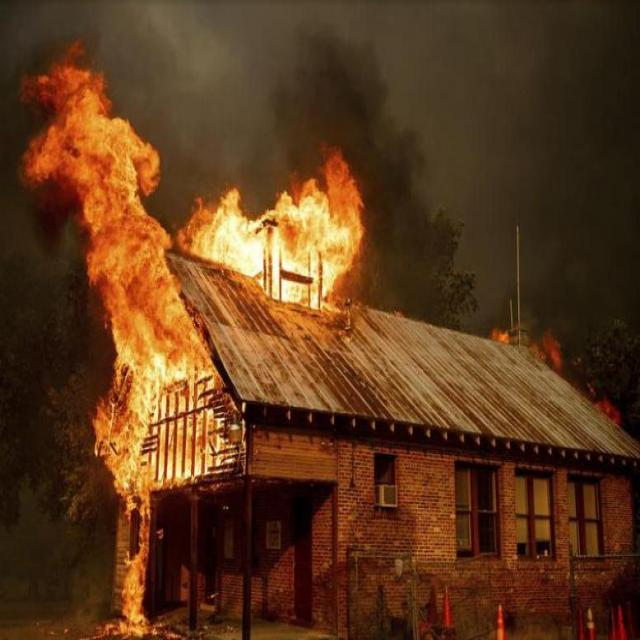fire: (4, 64, 213, 632), (176, 142, 369, 310)
